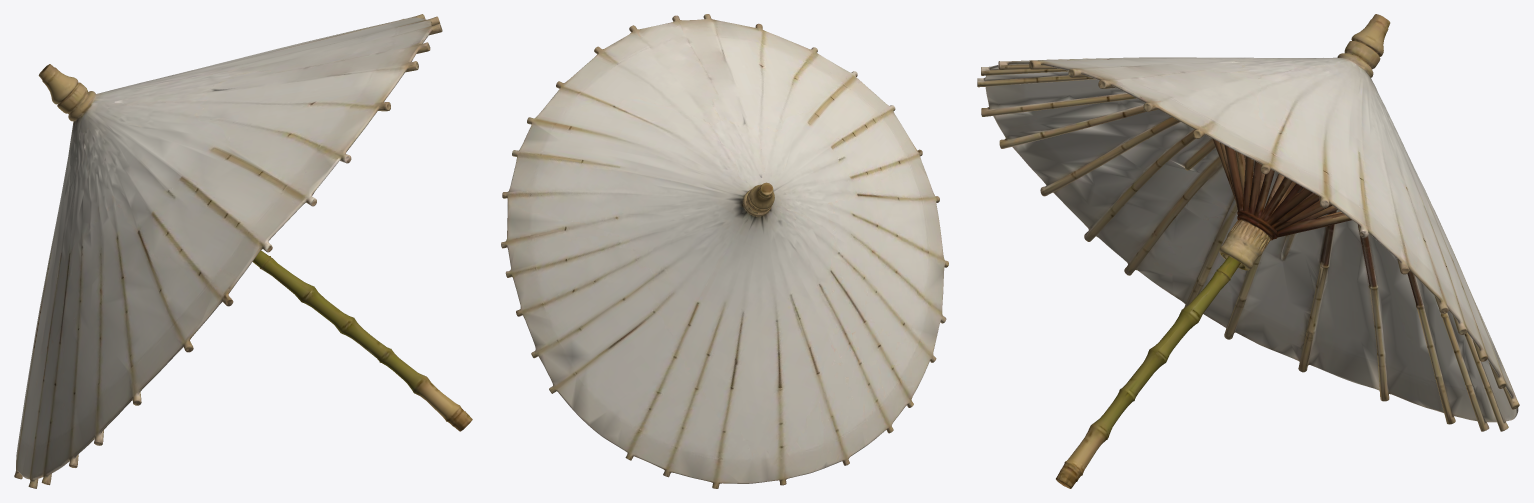
File: youzhisan.glb
The picture shows the model from 3 angles, left to right: view 1: azimuth 30°, elevation 25°; view 2: azimuth 150°, elevation 25°; view 3: azimuth 270°, elevation 25°; orthographic projection. The views are drawn at different scales.
Visible parts, largest first — view 1: convert; view 2: convert; view 3: convert.
Part boxes in pixels (x1,y1,x2,y2): convert: (14,14,472,488); convert: (501,14,948,488); convert: (977,14,1519,488).
Size of the model in its own units: 0.9286 by 0.9022 by 0.9658.
1 material, 1 textured.
